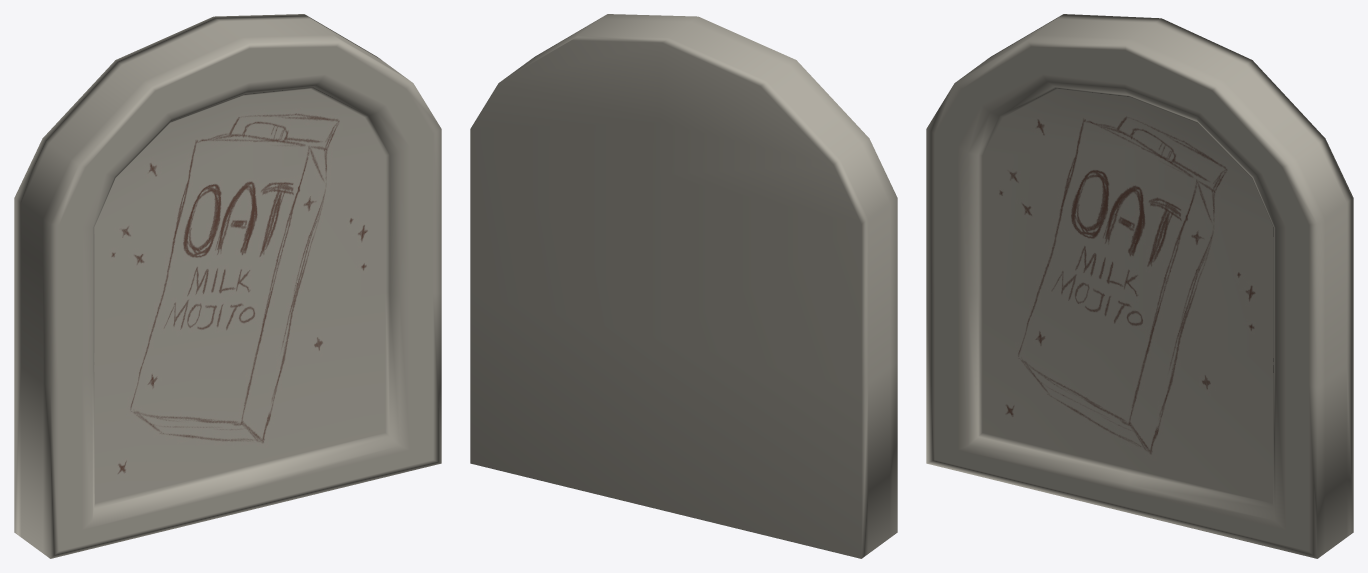
The model's file is monolith_omm.fbx.
3 renders of one model, left to right at view 1: azimuth 30°, elevation 25°; view 2: azimuth 150°, elevation 25°; view 3: azimuth 330°, elevation 25°, orthographic.
Visible parts, largest first — view 1: monolith_geo; view 2: monolith_geo; view 3: monolith_geo.
Part boxes in pixels (x1,y1,x2,y2): monolith_geo: (14,14,441,558); monolith_geo: (470,14,897,558); monolith_geo: (926,14,1353,558).
Size of the model in its own units: 8.85 by 10.11 by 1.42.
